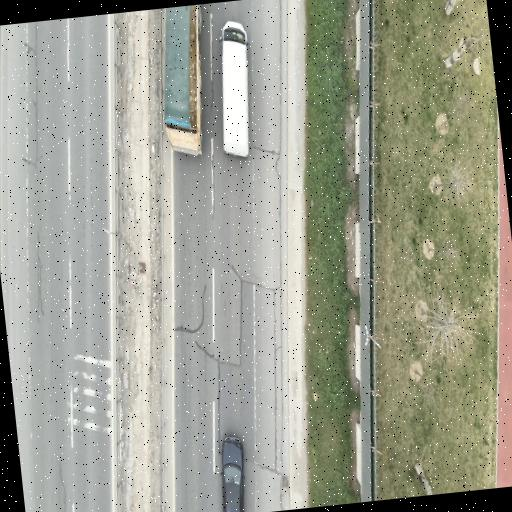car: (220, 21, 249, 158), (222, 437, 244, 511)
truck: (164, 5, 201, 155)
